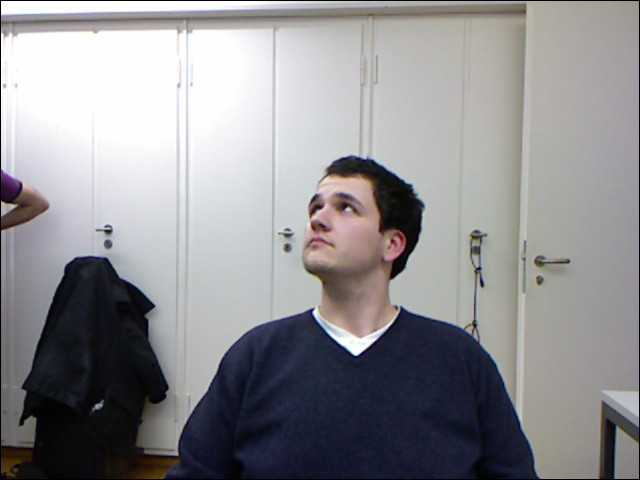deflection: (199, 151, 511, 420)
